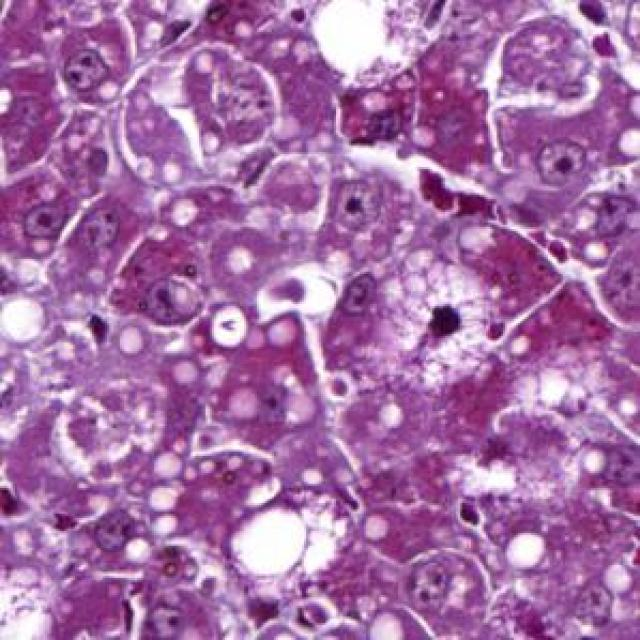ballooning: (370, 253, 508, 396)
